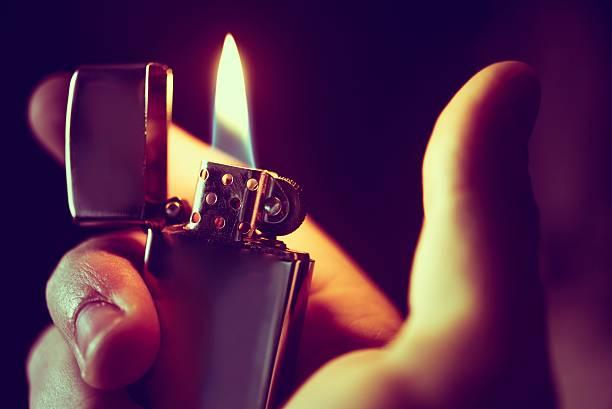Fire: (211, 31, 252, 165)
